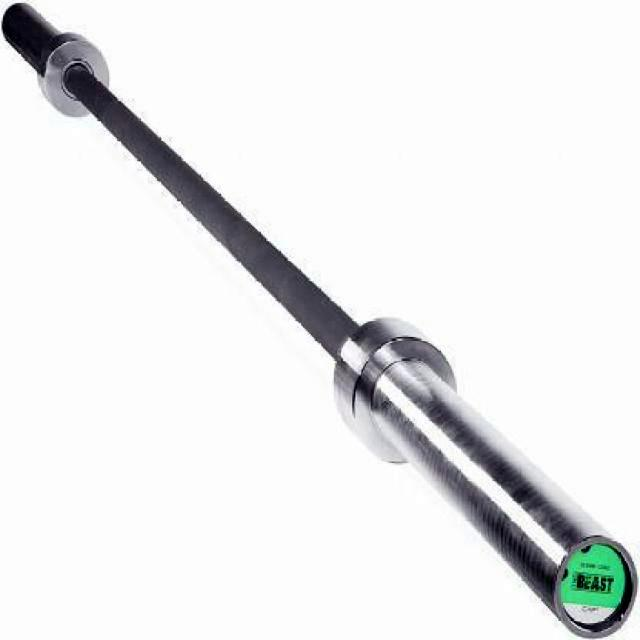barbell: (325, 308, 640, 640)
